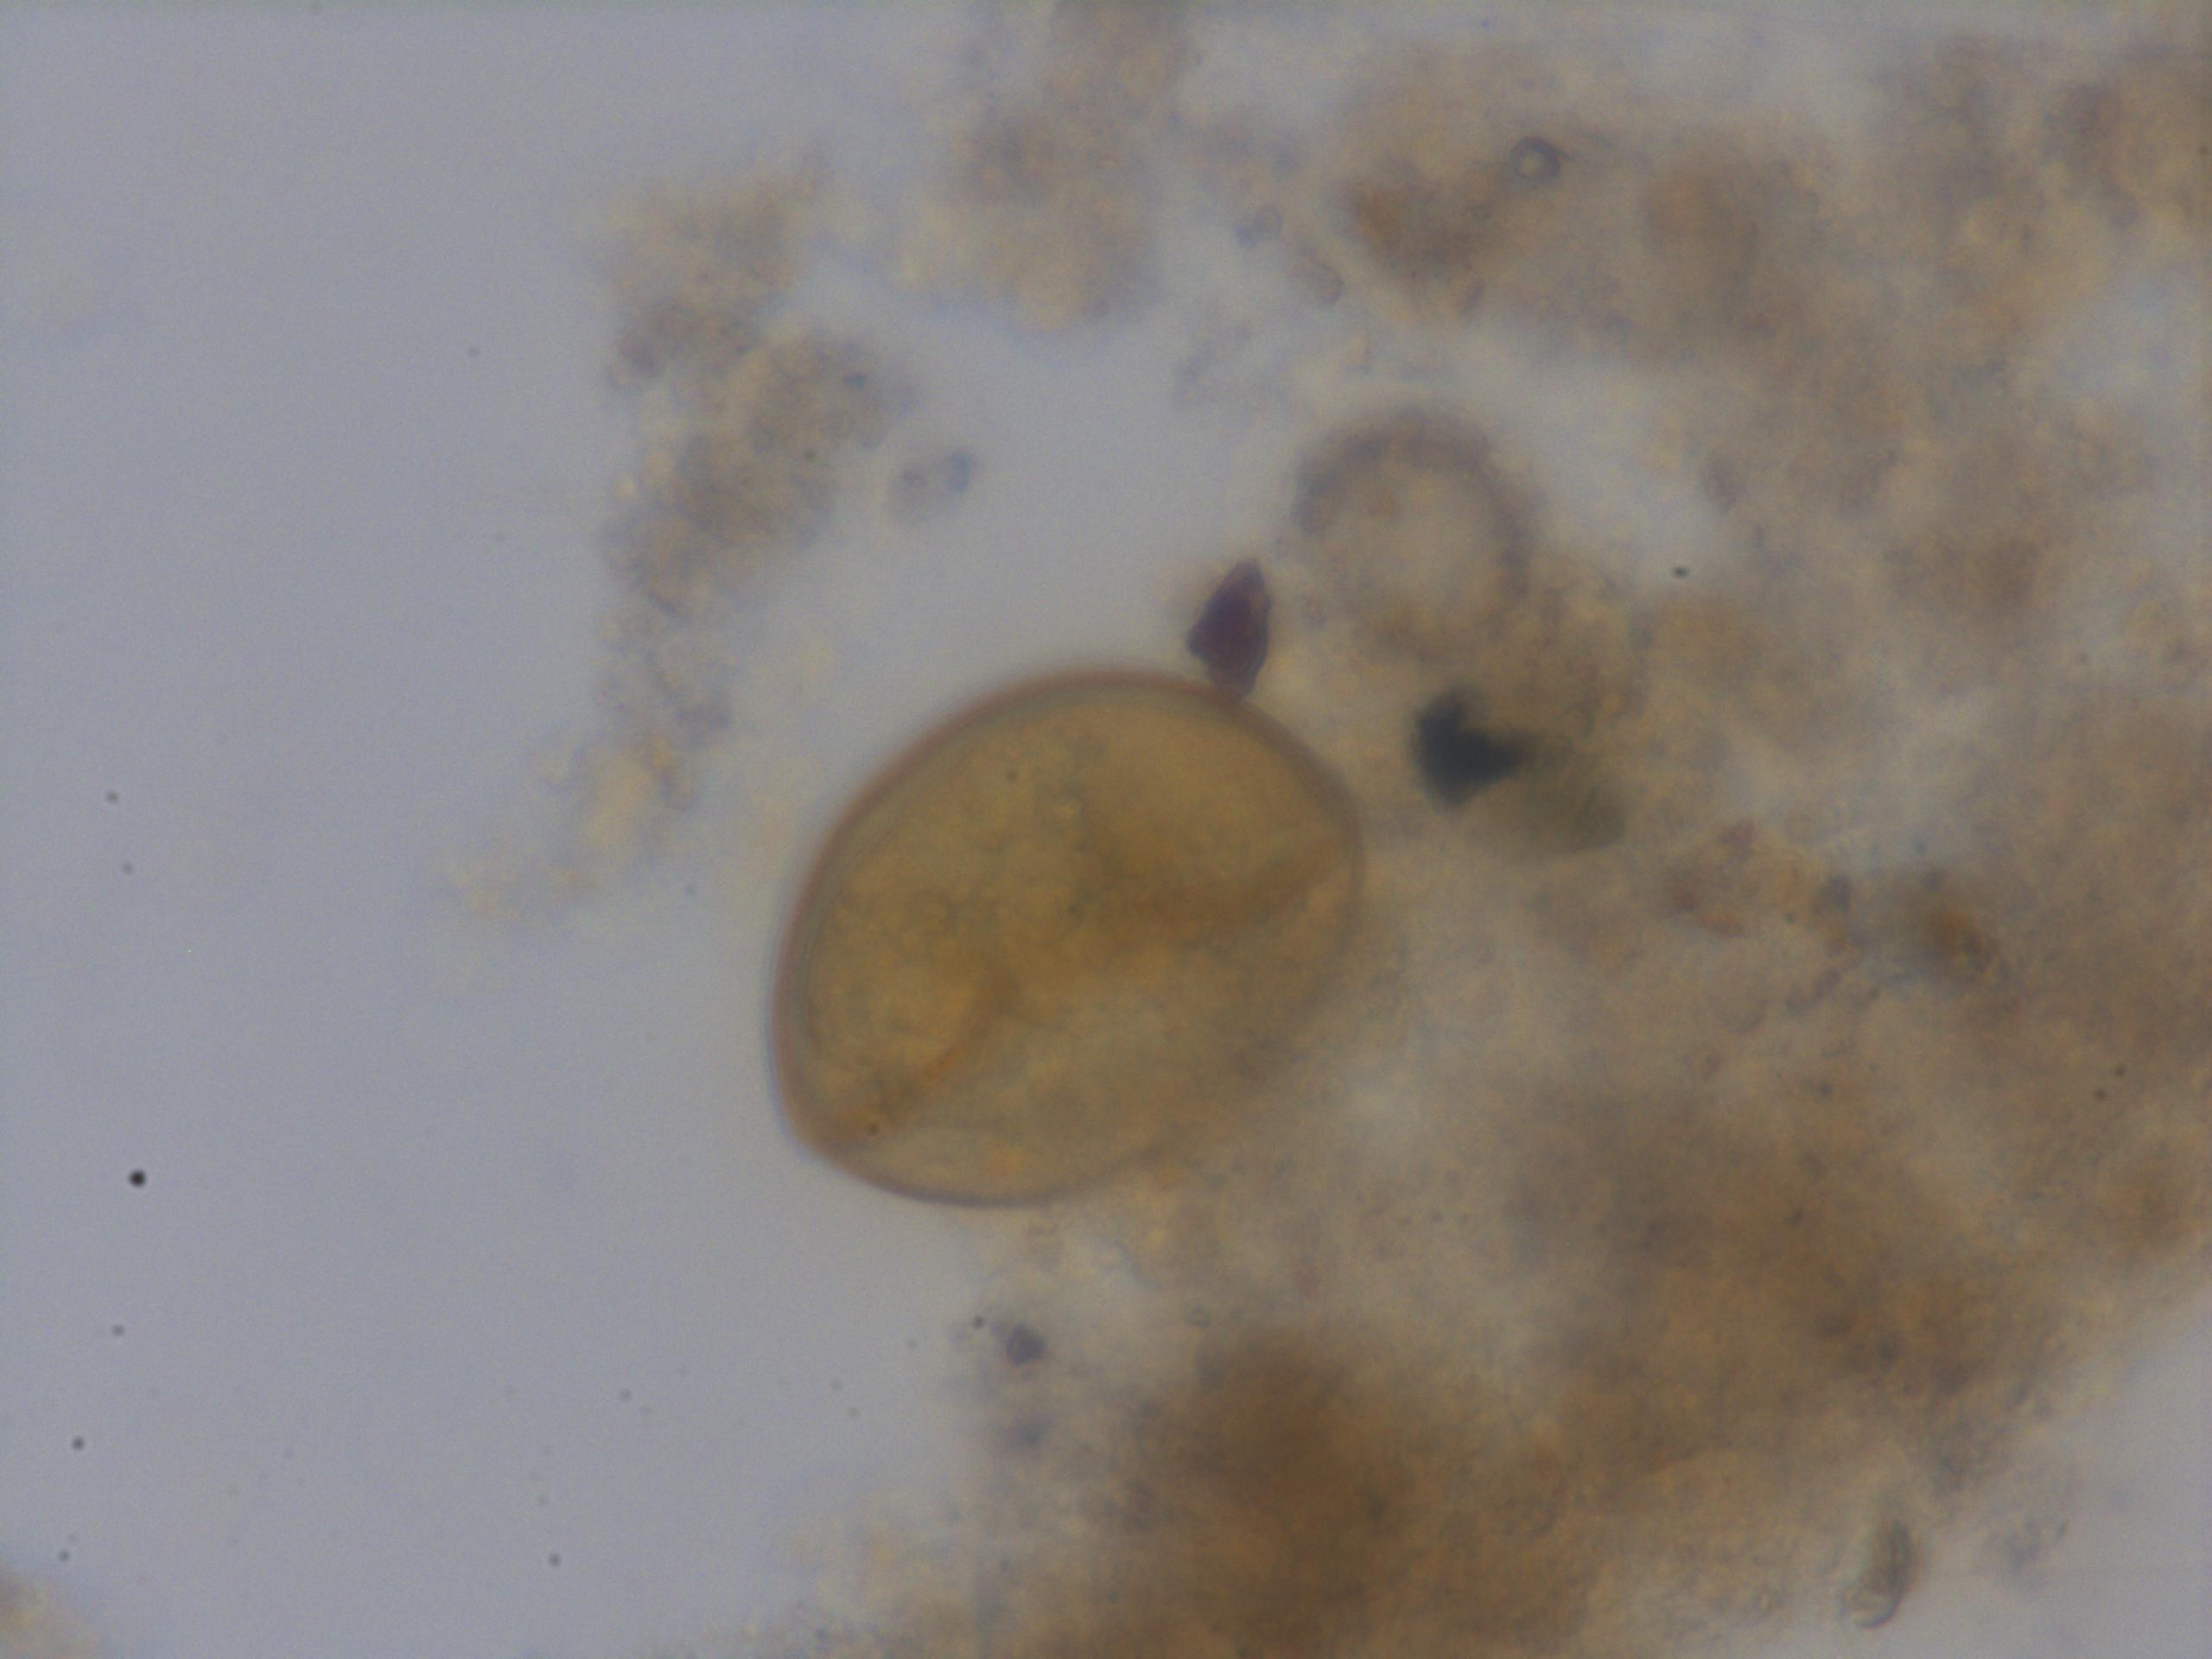open_floc: (756, 0, 2212, 1659)
protozoa: (758, 662, 1381, 1218)
